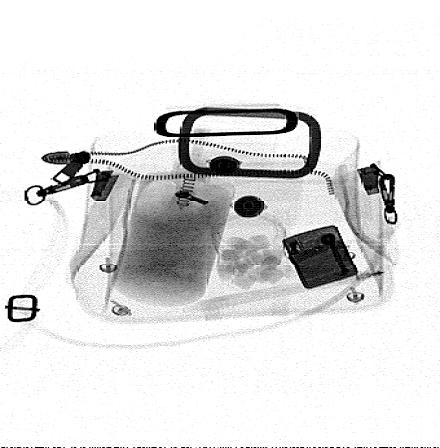Lighter: (280, 224, 361, 290)
